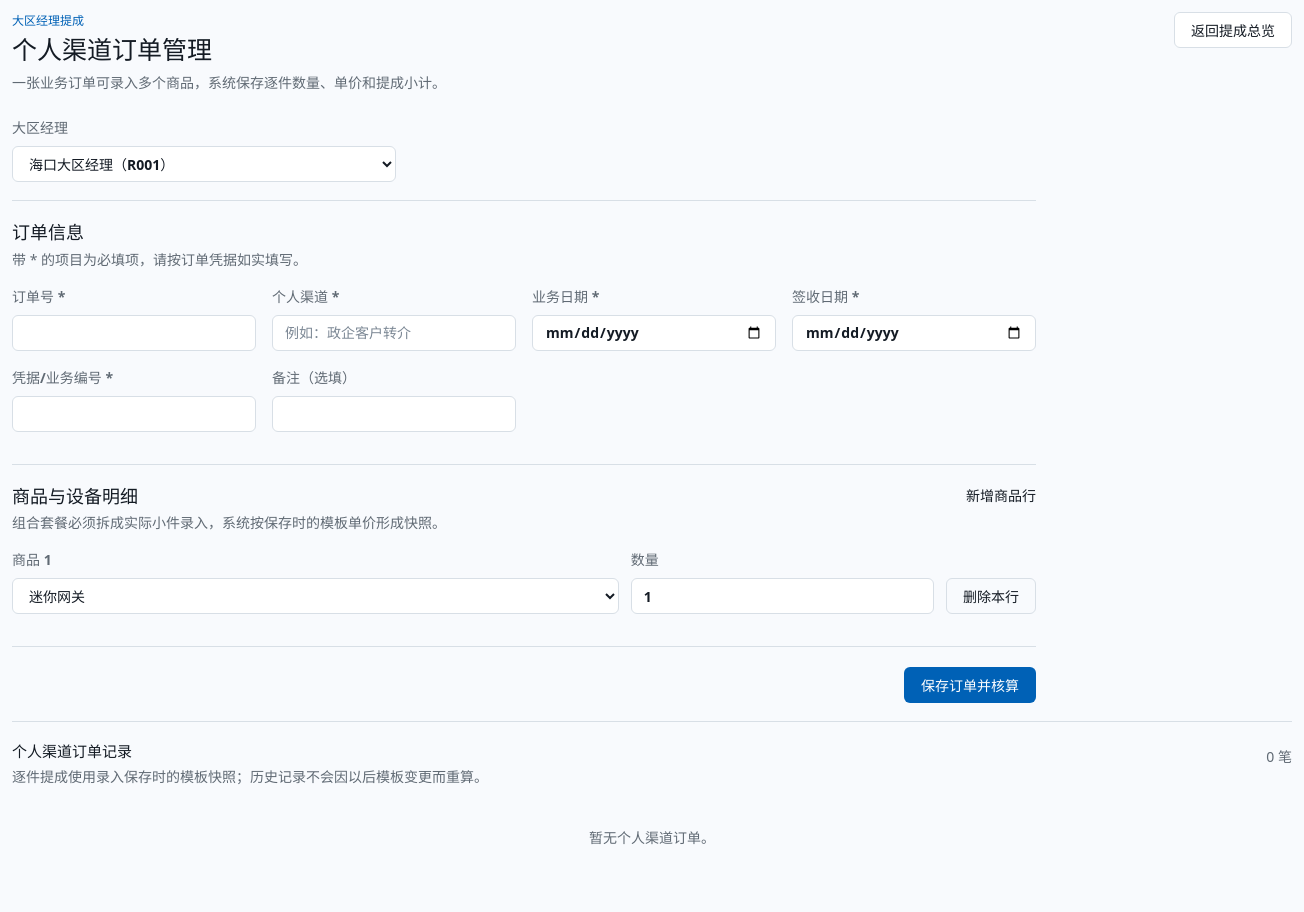
Test case: 个人渠道订单录入 › 提交订单并清空订单字段
Select "海口大区经理（R001）" in the dropdown labelled "大区经理" at (204, 164), box [12, 146, 396, 182]
Type "PO-202609-001" into the field labelled "订单号 *".
click(134, 333); type("PO-202609-001")  # box [12, 315, 256, 351]
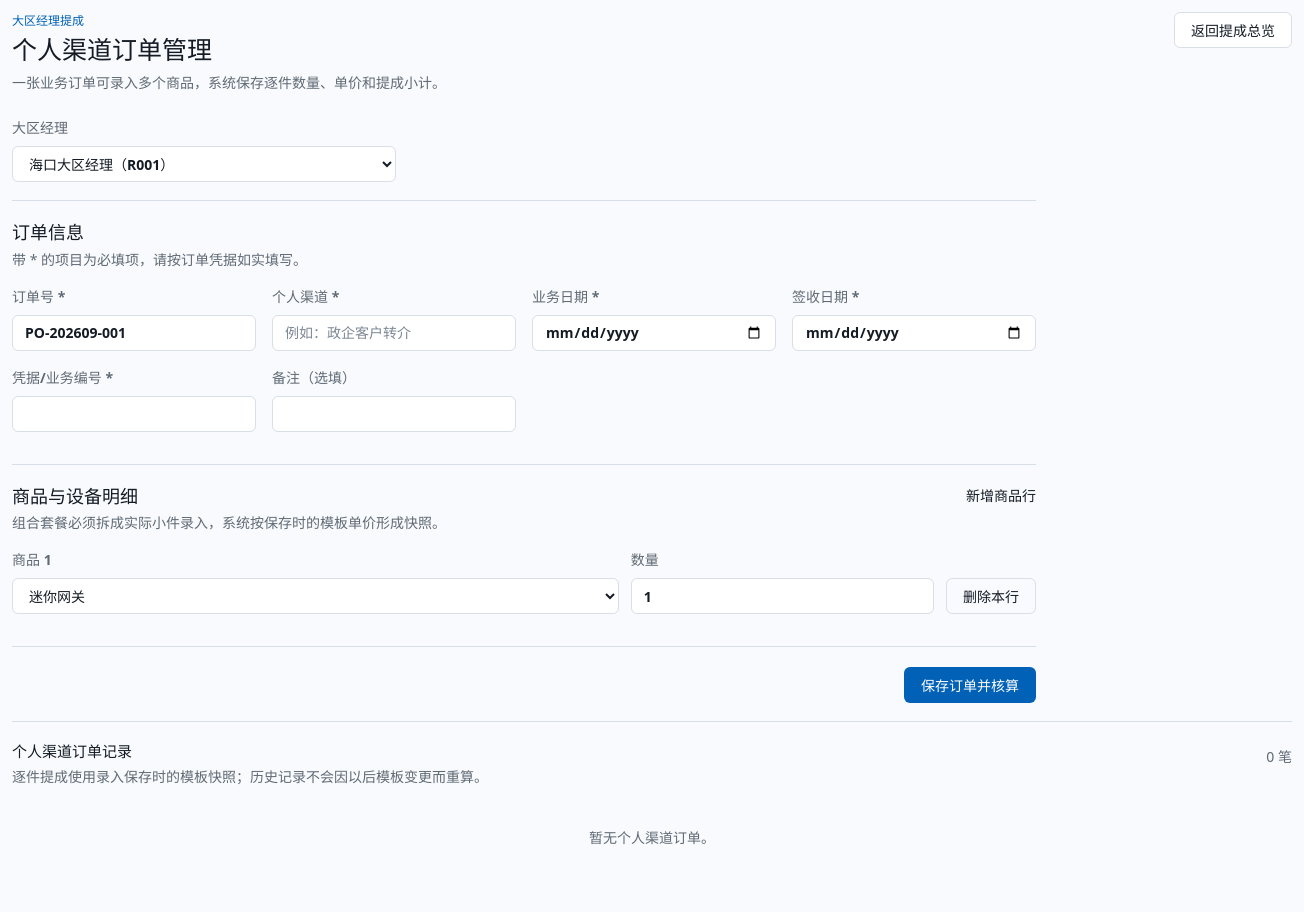
Type "政企客户转介" into the field labelled "个人渠道 *".
click(394, 333); type("政企客户转介")  # box [272, 315, 516, 351]
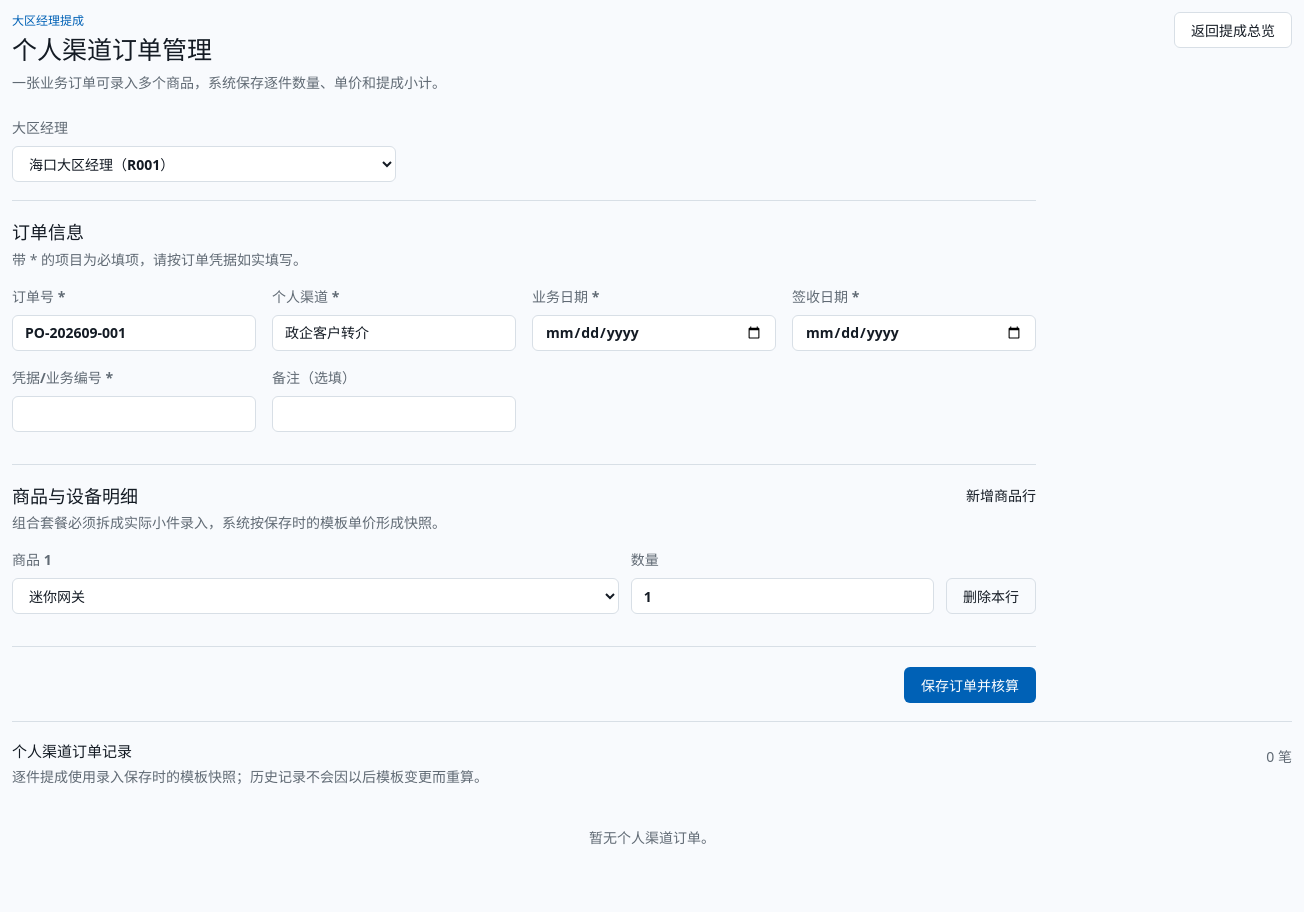
Type "2026-09-01" into the date field labelled "业务日期 *".
click(654, 333); type("2026-09-01")  # box [532, 315, 776, 351]
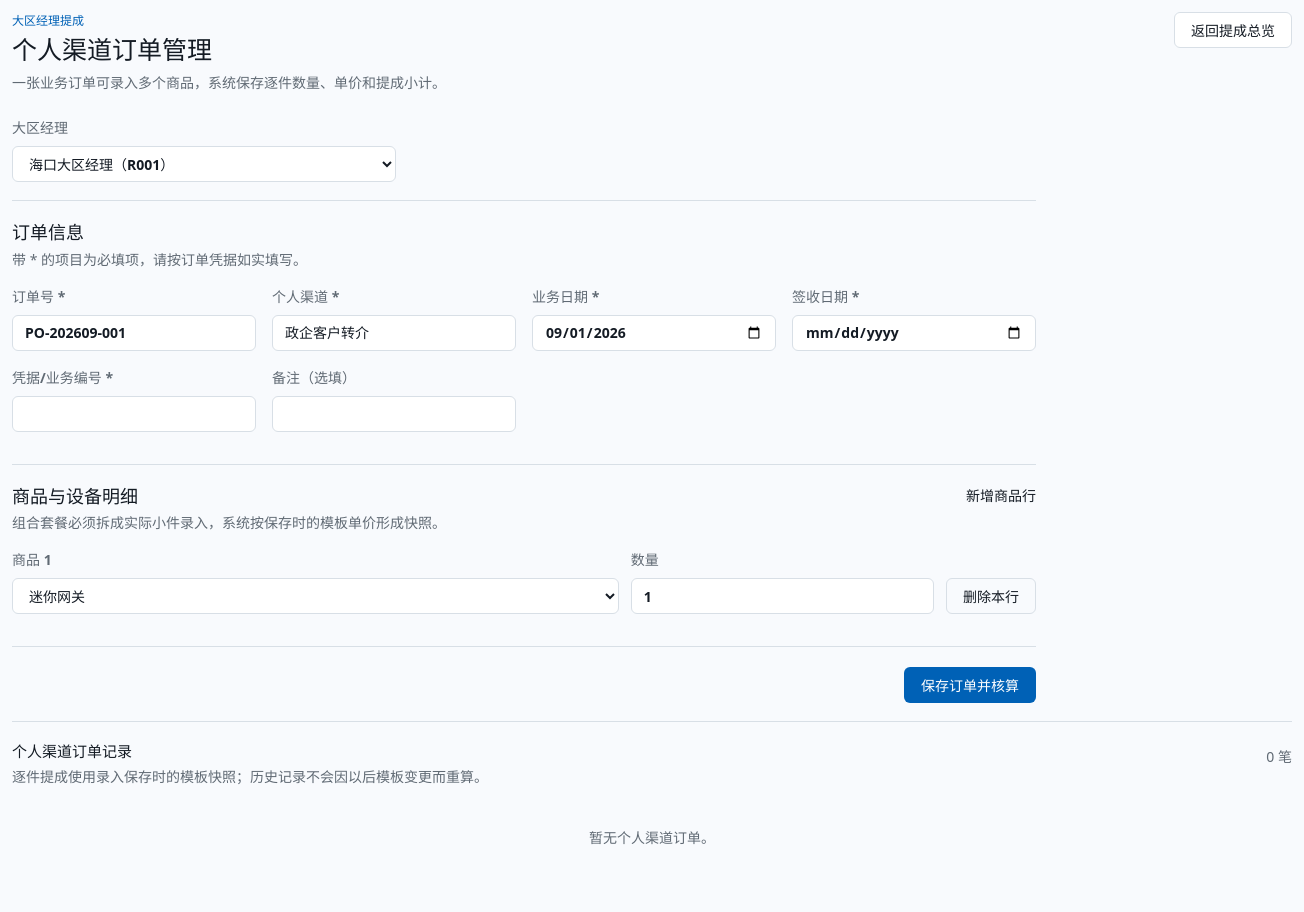
Type "2026-09-03" into the date field labelled "签收日期 *".
click(914, 333); type("2026-09-03")  # box [792, 315, 1036, 351]
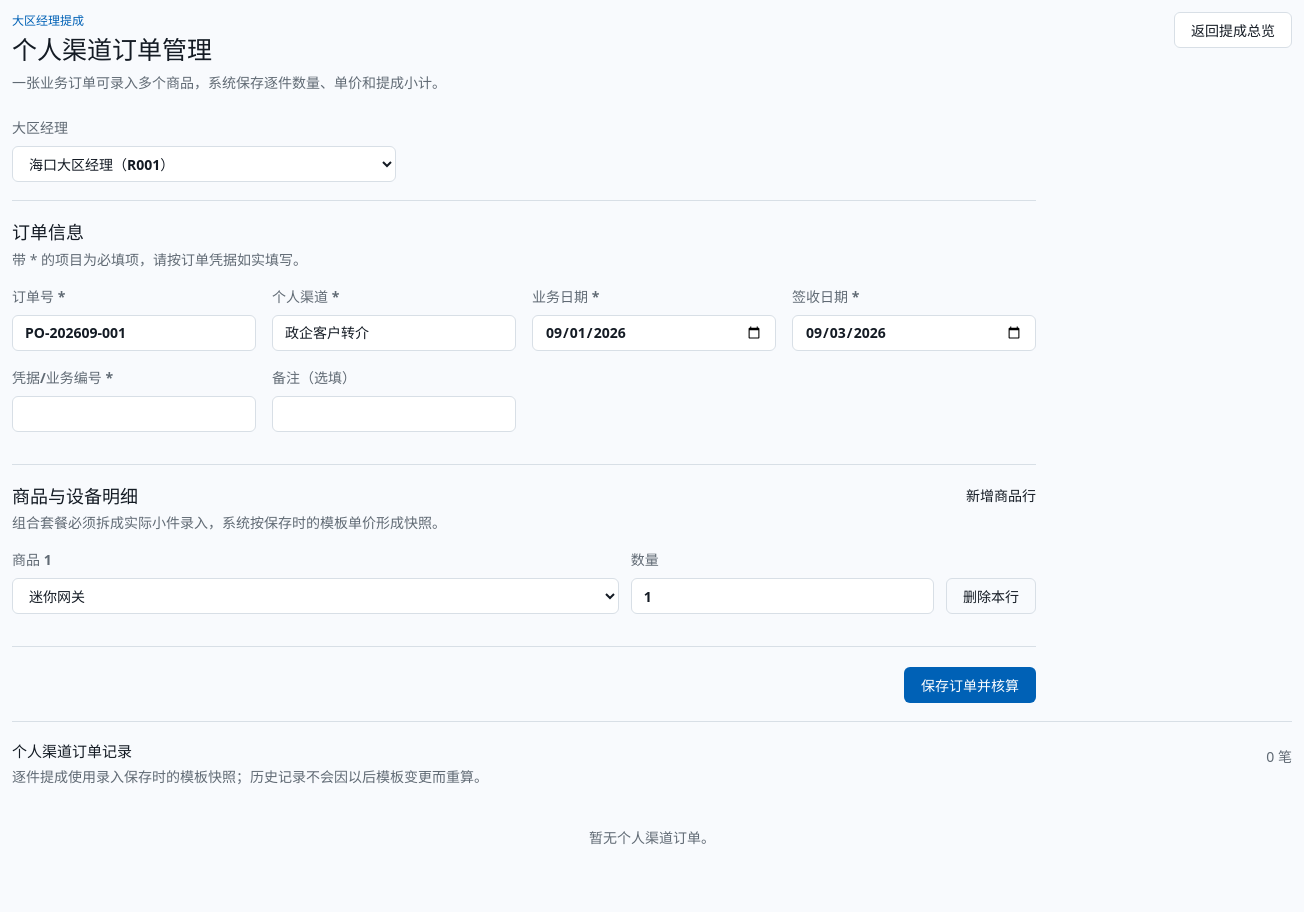
Type "EV-001" into the field labelled "凭据/业务编号 *".
click(134, 414); type("EV-001")  # box [12, 396, 256, 432]
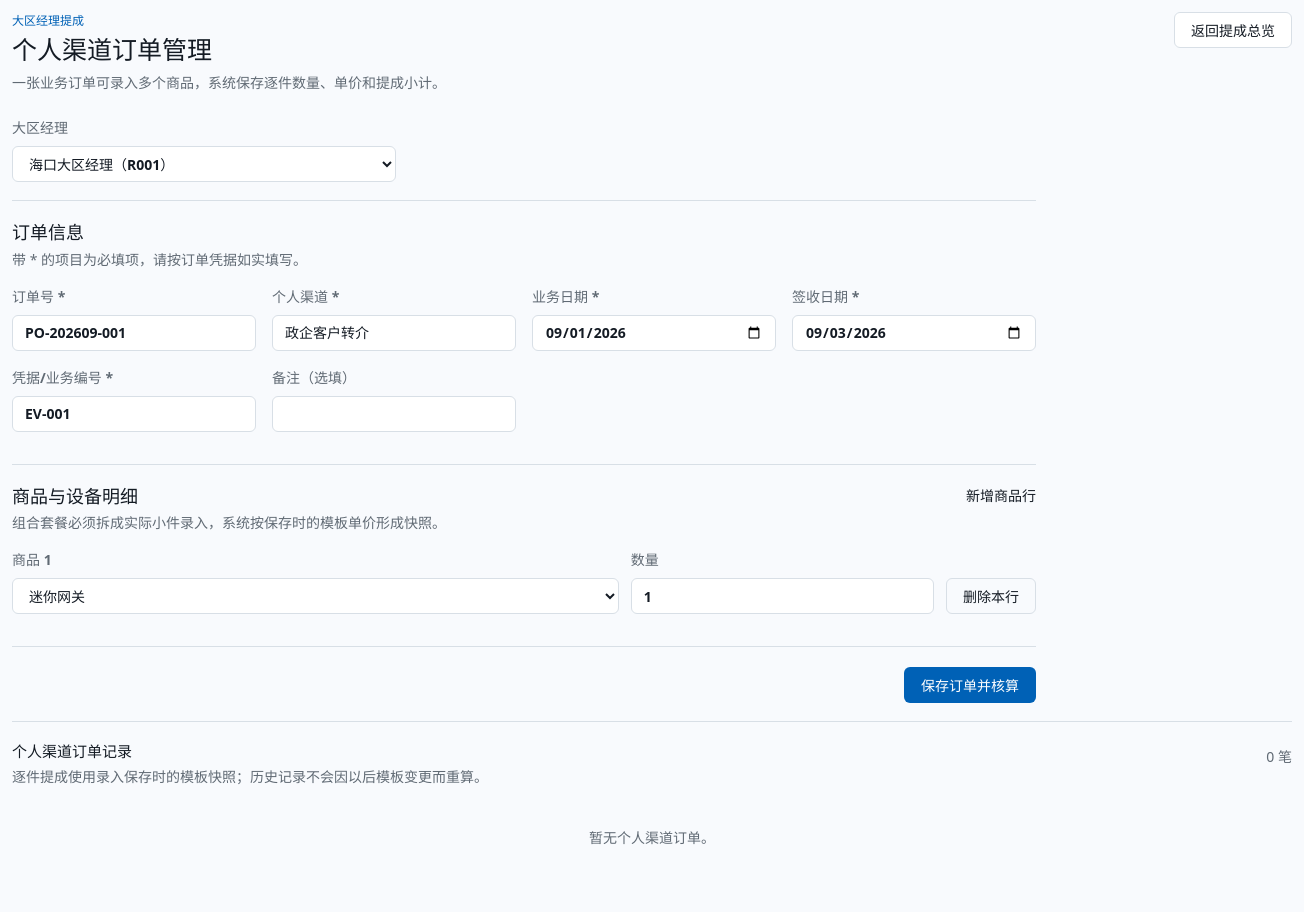
Click the button "保存订单并核算".
click(970, 685)  # box [904, 667, 1036, 703]
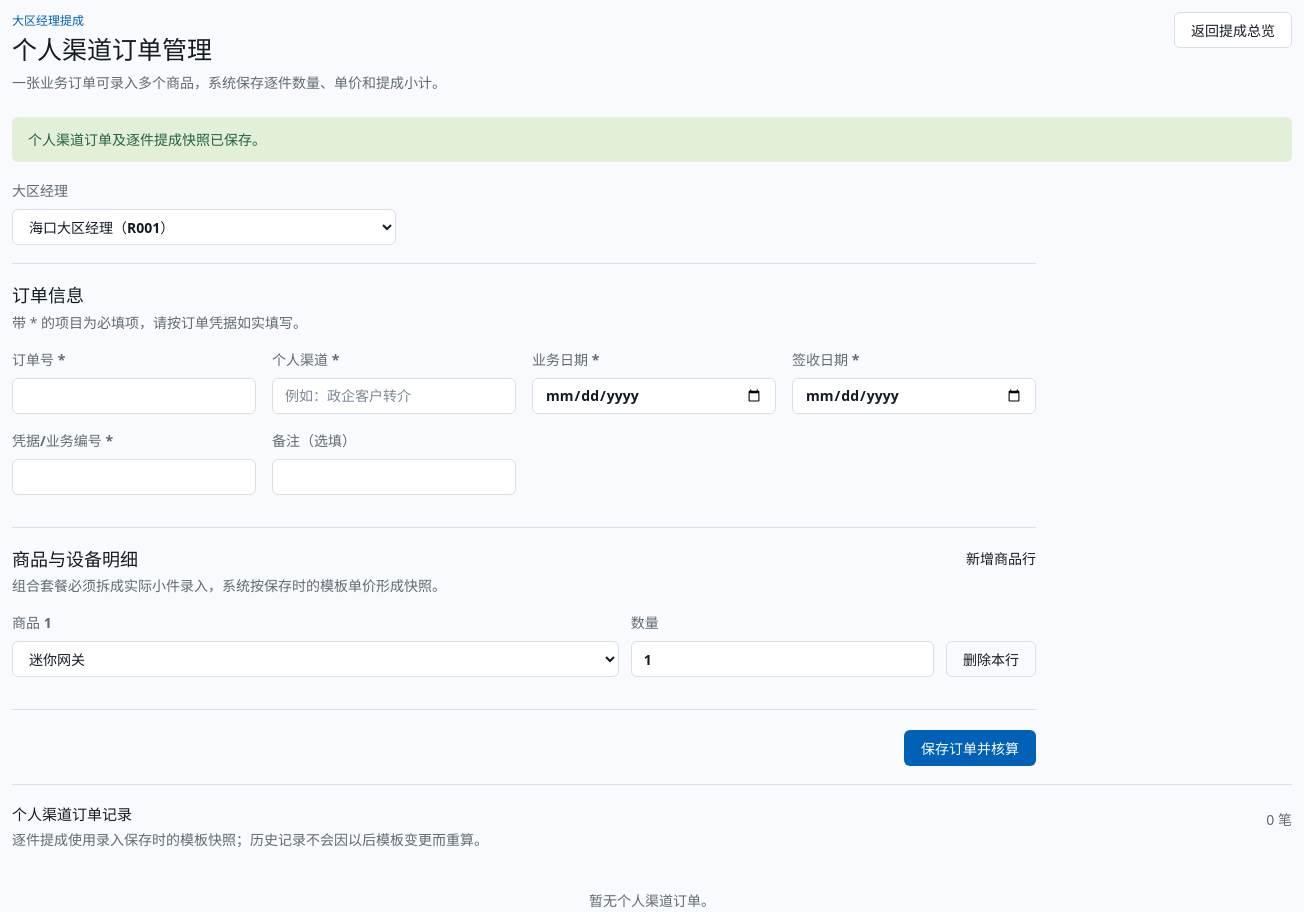
Check: the message shows "个人渠道订单及逐件提成快照已保存", box [28, 130, 266, 149]
Check: the field labelled "订单号 *" is empty, box [12, 378, 256, 414]
